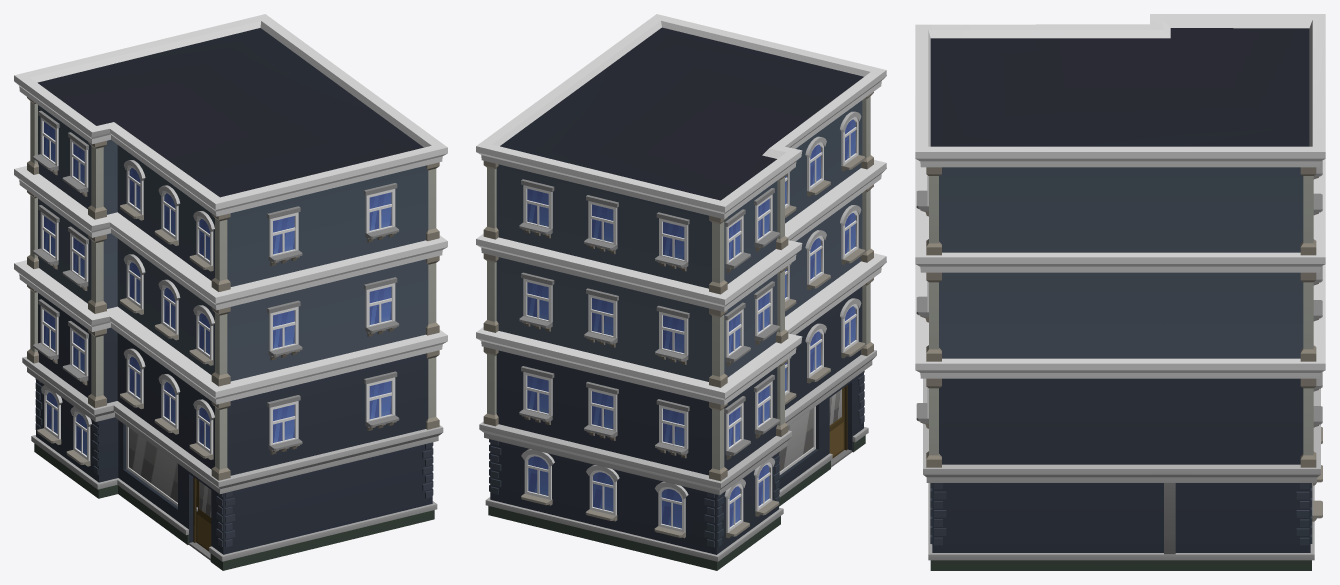
Rendered from Building_1_D.fbx.
The picture shows the model from 3 angles, left to right: view 1: azimuth 30°, elevation 25°; view 2: azimuth 150°, elevation 25°; view 3: azimuth 270°, elevation 25°; orthographic projection. The views are drawn at different scales.
Parts seen in each view (by area): view 1: Building_1_D; view 2: Building_1_D; view 3: Building_1_D.
Boxes of the visible parts, x1,y1,x2,y2 form: Building_1_D: (14, 14, 447, 570); Building_1_D: (476, 14, 886, 570); Building_1_D: (915, 14, 1325, 570).
Bounding box in the file's own units: 841 × 1201 × 1057.
